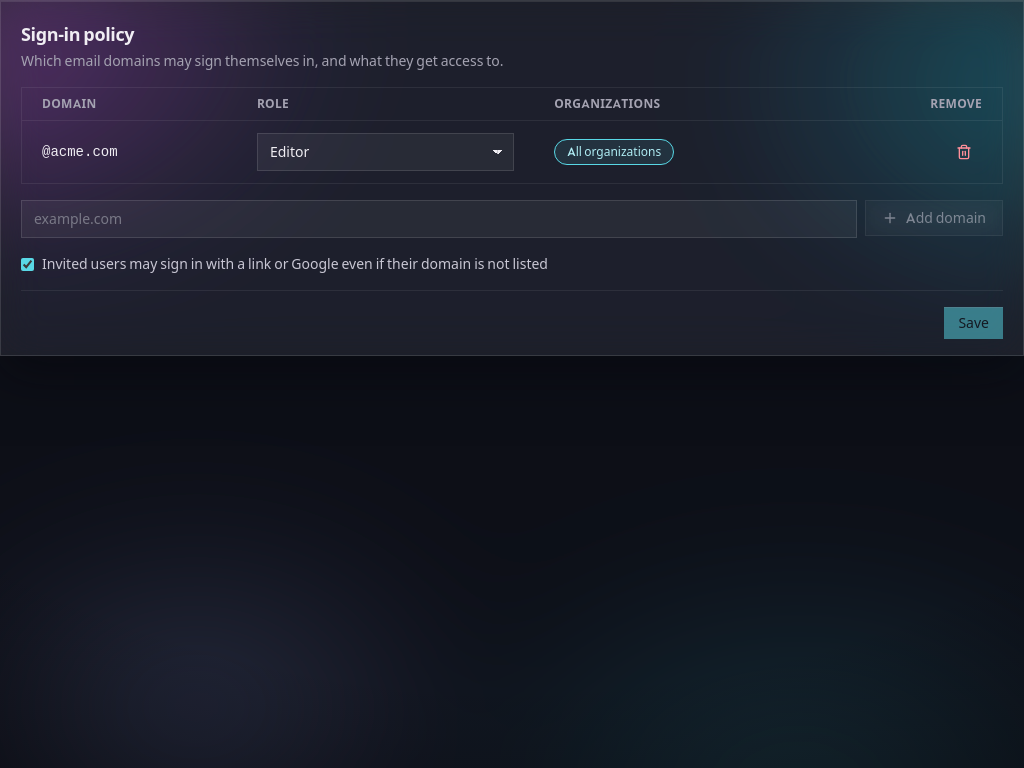
SignInPolicyCard › rejects a duplicate domain
Expected: the text "@acme.com" is shown, [22,120,237,183]
Type "acme.com" into the field with placeholder "example.com" at [439, 219], box [21,200,857,238]
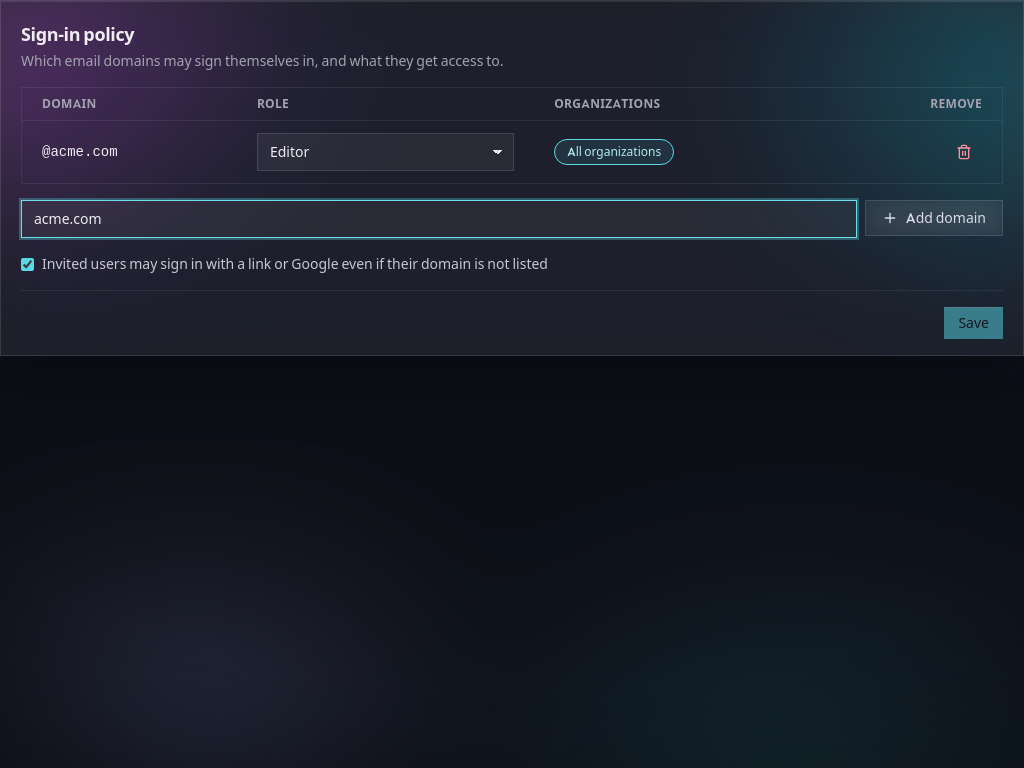
Click the button "Add domain" at [934, 218], box [865,200,1003,236]
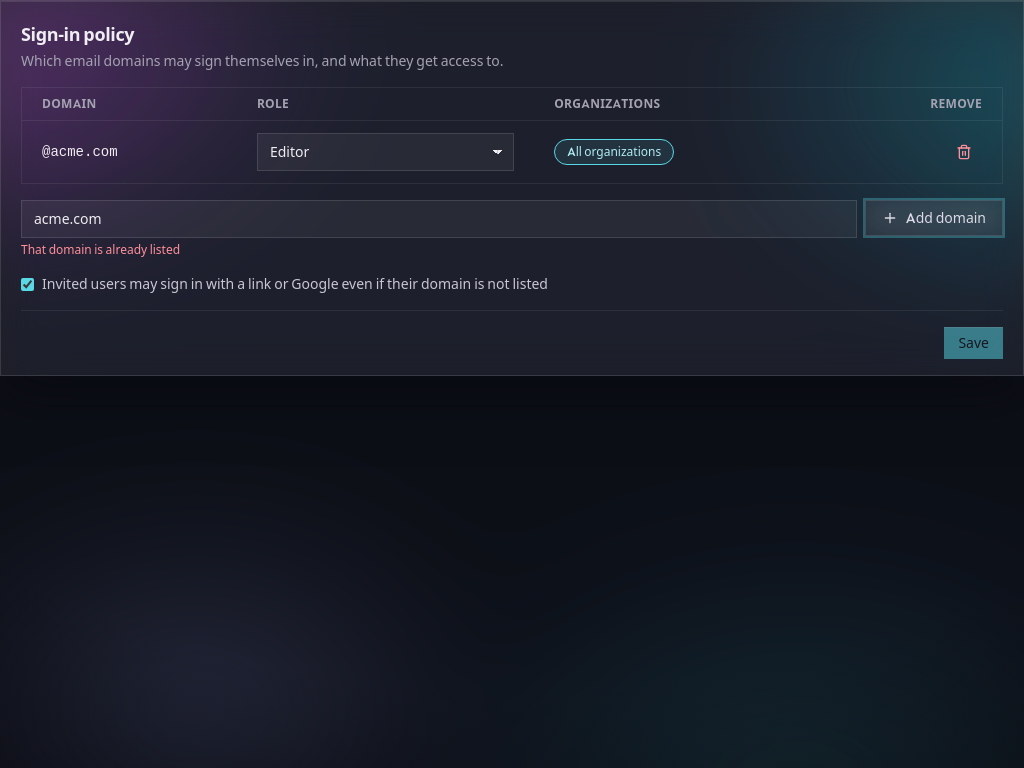
Result: the text "That domain is already listed" is shown at [21,242,180,257]
